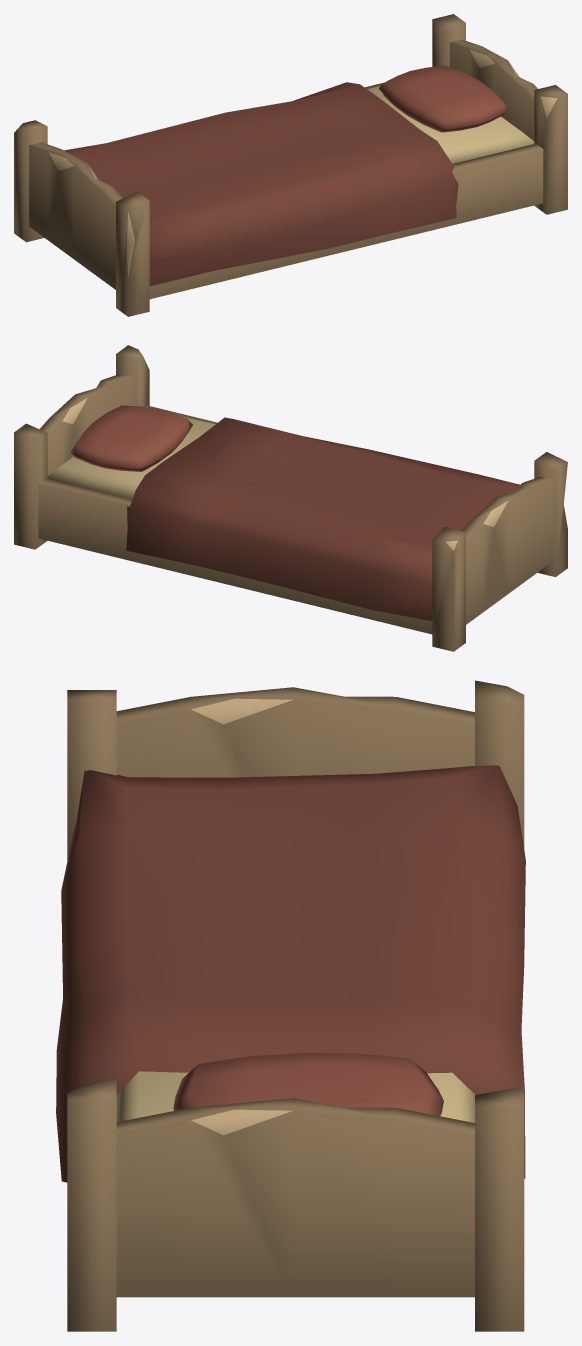
The model's file is rpgpp_ag_bed_03c.fbx.
3 renders of one model, top to bottom at view 1: azimuth 30°, elevation 25°; view 2: azimuth 150°, elevation 25°; view 3: azimuth 270°, elevation 25°, orthographic. The views are drawn at different scales.
Visible parts, largest first — view 1: rpgpp_ag_bed_03c; view 2: rpgpp_ag_bed_03c; view 3: rpgpp_ag_bed_03c.
Boxes of the visible parts, <box> form: rpgpp_ag_bed_03c: <box>14,14,567,316</box>; rpgpp_ag_bed_03c: <box>14,345,567,651</box>; rpgpp_ag_bed_03c: <box>56,680,525,1331</box>.
Size of the model in its own units: 2.64 by 0.6653 by 1.22.
